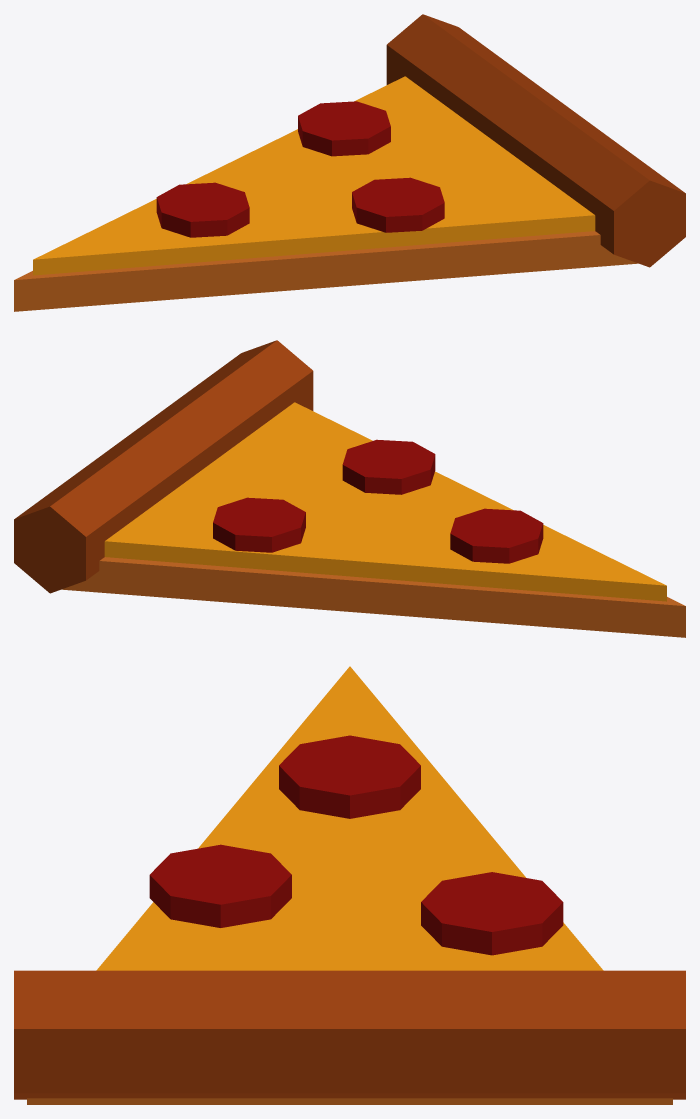
Rendered from pizza_slice.obj.
3 renders of one model, top to bottom at view 1: azimuth 30°, elevation 25°; view 2: azimuth 150°, elevation 25°; view 3: azimuth 270°, elevation 25°, orthographic. The views are drawn at different scales.
Parts seen in each view (by area): view 1: pizza_slice; view 2: pizza_slice; view 3: pizza_slice.
Part boxes in pixels (x1,y1,x2,y2): pizza_slice: (14,14,685,311); pizza_slice: (14,340,685,637); pizza_slice: (14,666,685,1104).
Size of the model in its own units: 0.1475 by 0.022 by 0.104.
